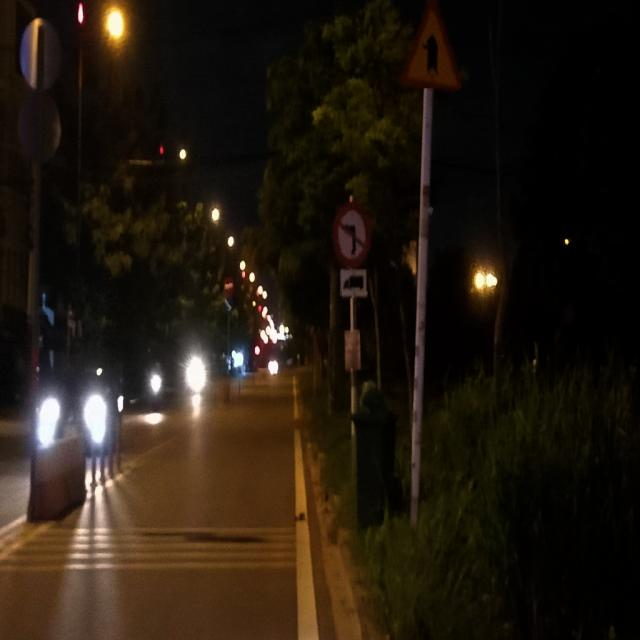cam_re_trai: (333, 198, 374, 268)
cam_xe_di_nguoc_chieu: (223, 278, 234, 296)
giao_nhau_voi_duong_khong_uu_tien: (396, 0, 461, 88)
huong_phai_di_vuot_chuong_ngai_vat_phai: (223, 297, 234, 315)
khac: (340, 268, 368, 298)
